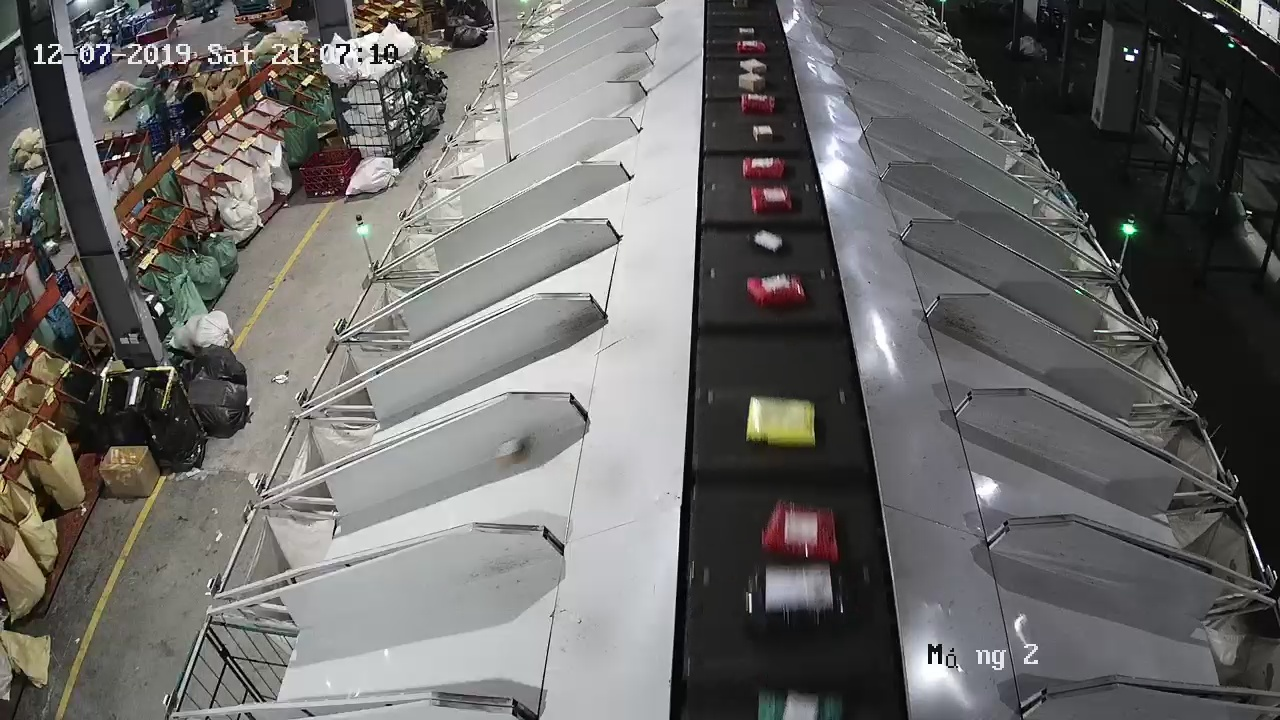parcel: (494, 437, 526, 467)
